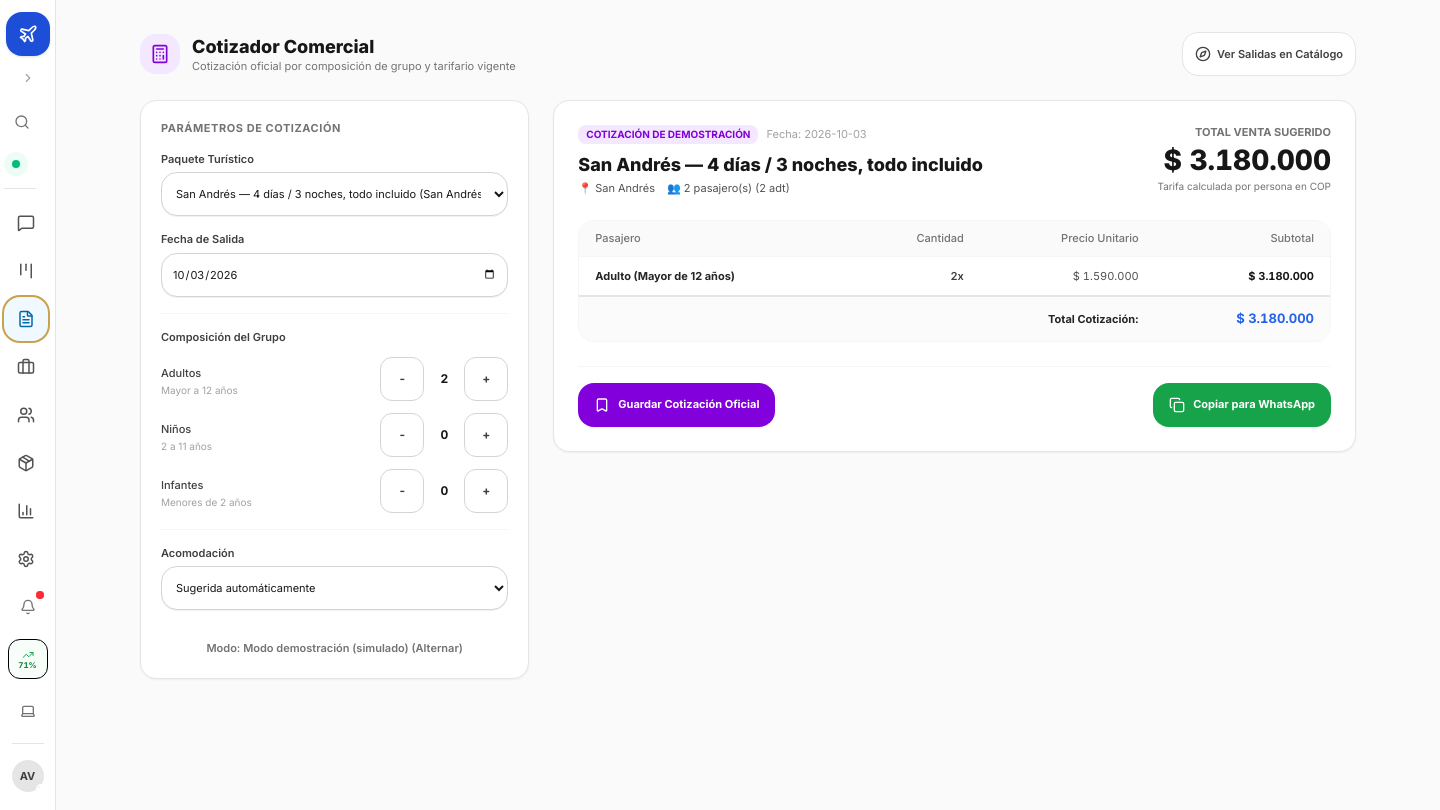
Scenario: CotizadorPage — Excursiones de un Día y Estados de UI (Bloque 2) › 6. Caso canónico T-011: 3 adultos en doble muestra aviso explícito "1 plaza sin usar, se paga igual"
# Seleccionar San Andrés y fecha de temporada alta diciembre
Select "San Andrés — 4 días / 3 noches, todo incluido (San Andrés)" in the dropdown labelled "Paquete Turístico": x=335, y=194 [161,172,508,216]
In the date field labelled "Fecha de Salida": x=335, y=275 [161,253,508,297], type "2027-12-24"
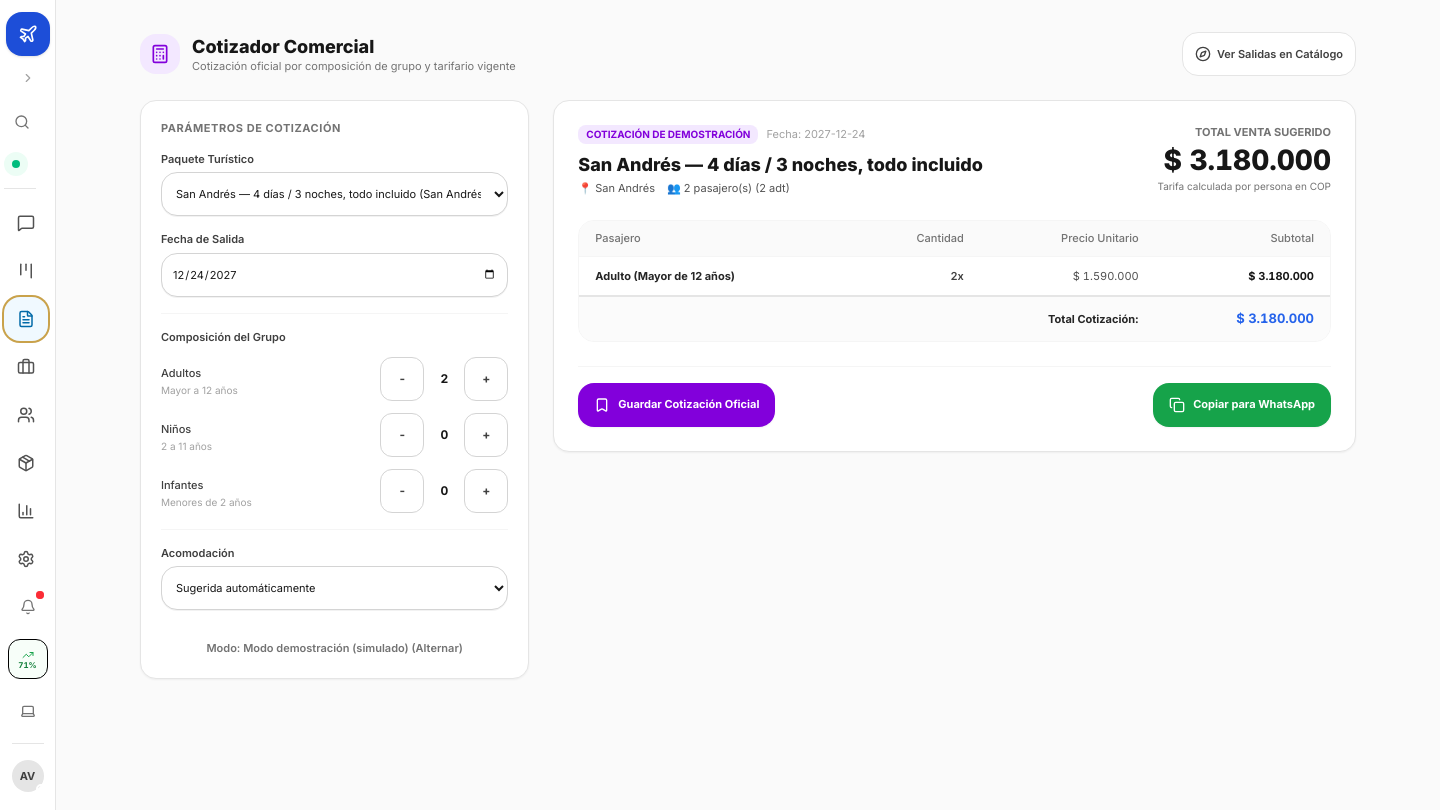
Select "Doble (2 personas)" in the dropdown labelled "Acomodación": x=335, y=588 [161,566,508,610]
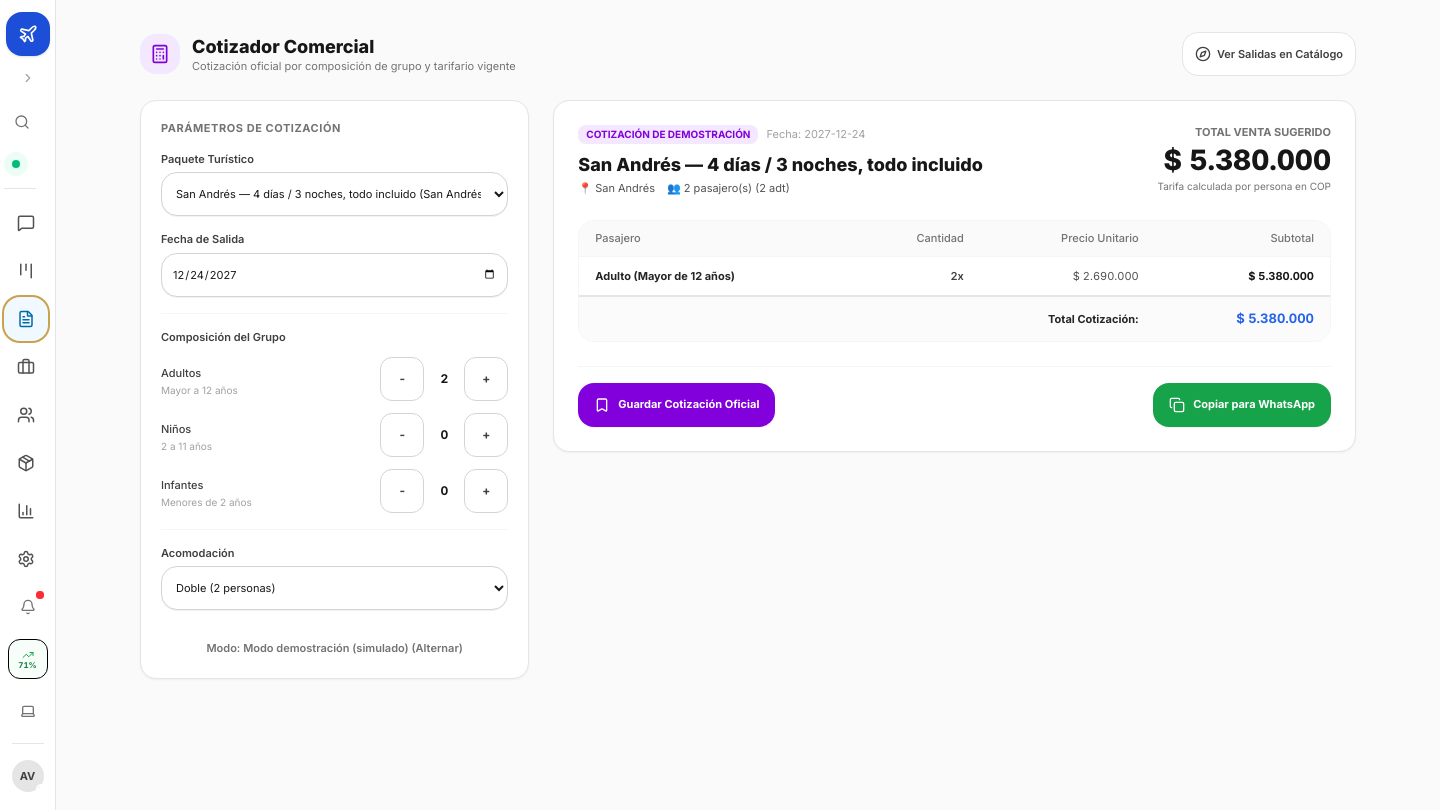
# Incrementar a 3 adultos (inicialmente 2)
Click the button "+" in the row of "Mayor a 12 años": x=486, y=379 [464,357,508,401]
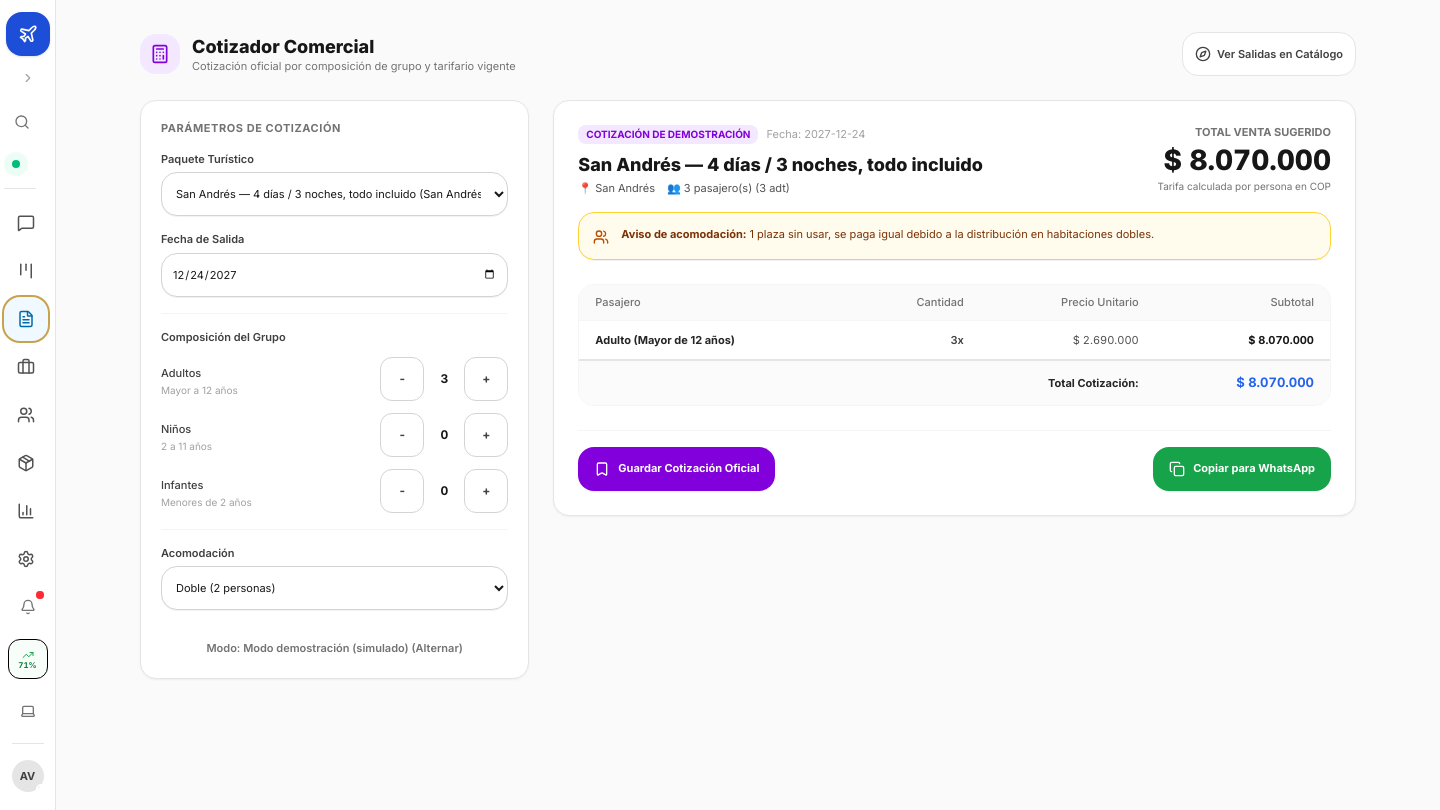
Expected: the element with test id "aviso-plazas-sin-usar" is shown, [578,212,1331,260]
Expected: the element with test id "aviso-plazas-sin-usar" shows "1 plaza sin usar, se paga igual", [750,227,903,241]
